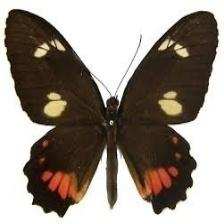butterfly: (5, 11, 219, 216)
